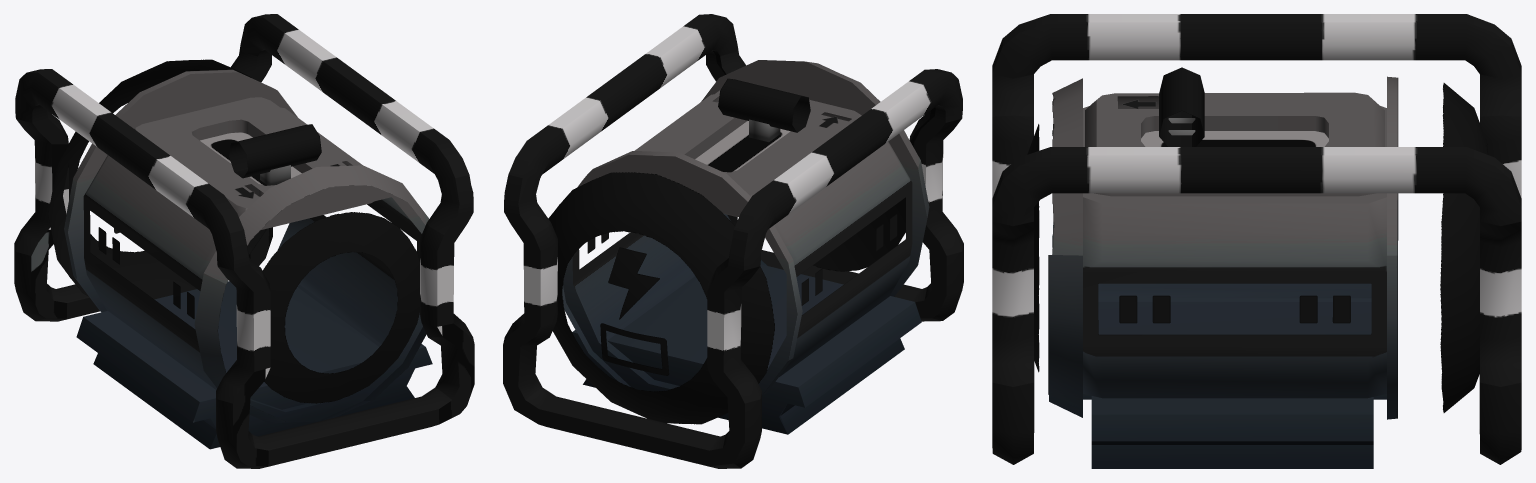
The model's file is obj_interactive_electricengine_03_on.fbx.
The picture shows the model from 3 angles, left to right: view 1: azimuth 30°, elevation 25°; view 2: azimuth 150°, elevation 25°; view 3: azimuth 270°, elevation 25°; orthographic projection. The views are drawn at different scales.
Visible parts, largest first — view 1: obj_interactive_electricengine_03_on; view 2: obj_interactive_electricengine_03_on; view 3: obj_interactive_electricengine_03_on.
Part boxes in pixels (x1,y1,x2,y2): obj_interactive_electricengine_03_on: (14, 14, 474, 468); obj_interactive_electricengine_03_on: (503, 14, 963, 468); obj_interactive_electricengine_03_on: (992, 14, 1521, 468).
Size of the model in its own units: 2.04 by 2.04 by 3.03.
